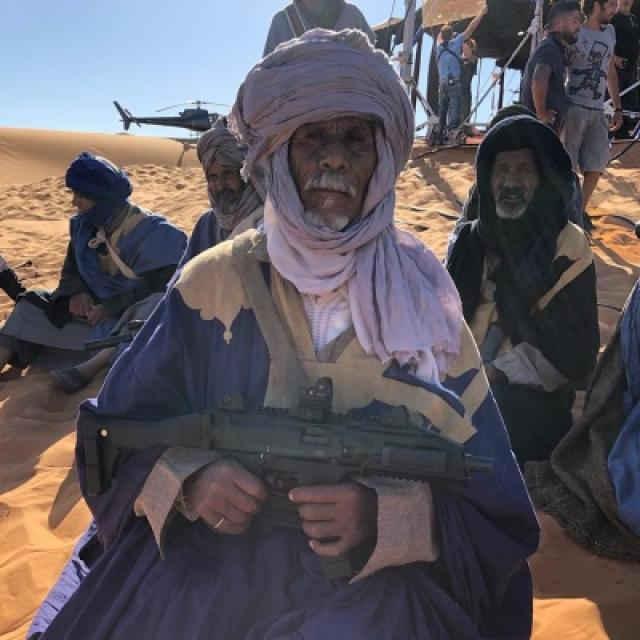rifle: (66, 376, 504, 589)
